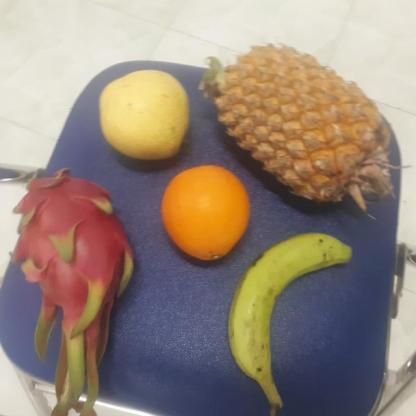banana: (219, 236, 347, 388)
orange: (159, 163, 250, 261)
pear: (94, 70, 193, 164)
pineapple: (203, 52, 389, 208)
pitaya: (13, 170, 135, 345)
